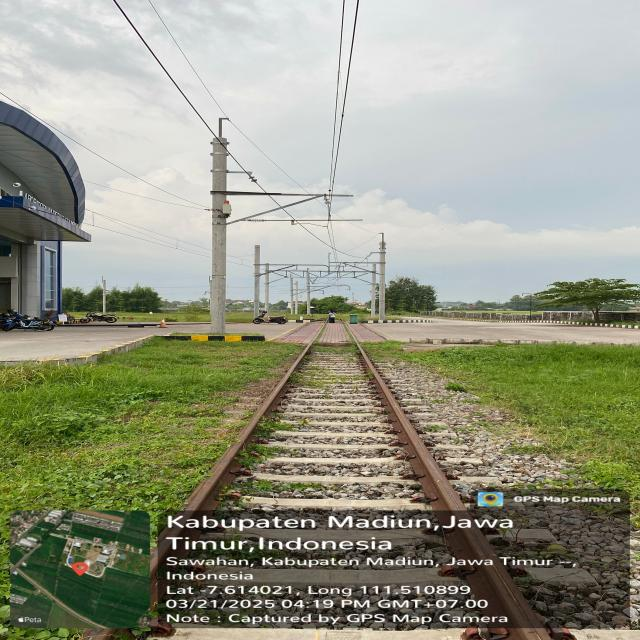rail-detection: (358, 344, 550, 640), (180, 341, 312, 526), (151, 528, 200, 600)
